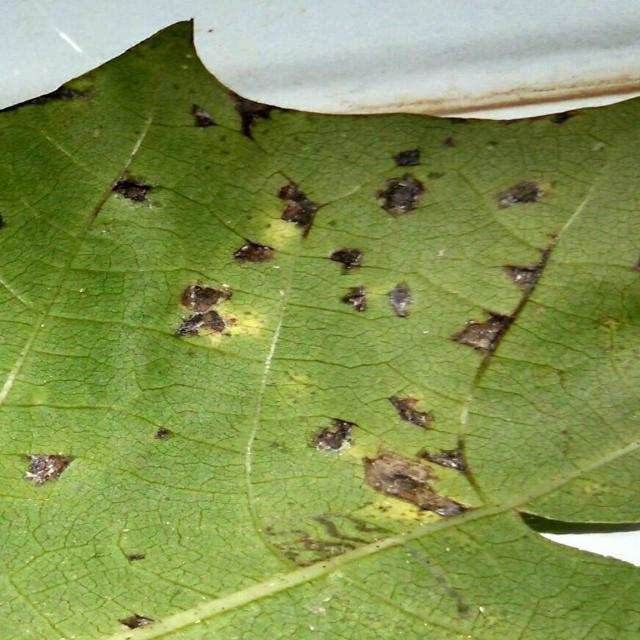Bacterial Blight: (78, 90, 552, 548)
